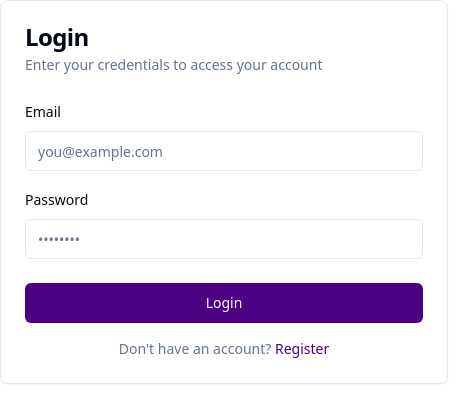
Scenario: LoginForm › shows loading state during login
Type "test@example.com" into the field labelled "Email" at (224, 151), box [25,131,423,171]
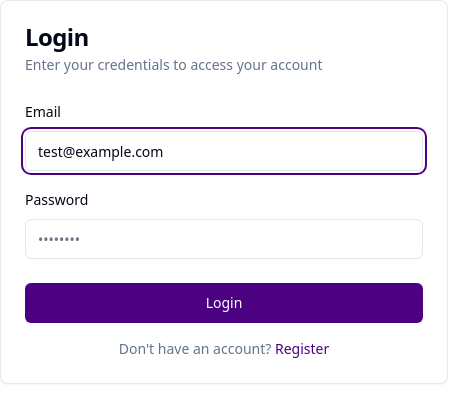
Type "password123" into the password field labelled "Password" at (224, 239), box [25,219,423,259]
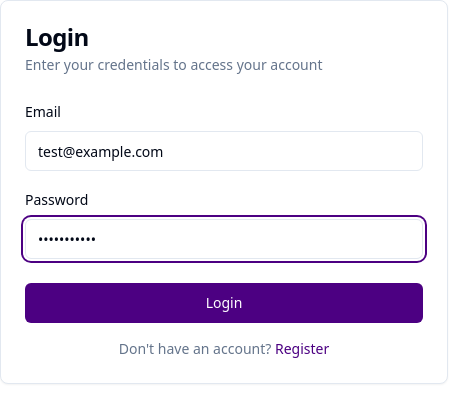
Click the button "Login" at (224, 303), box [25,283,423,323]
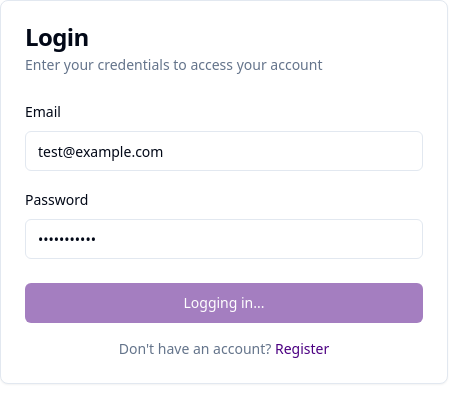
Now the button "Logging in..." is disabled, box [25,283,423,323]
